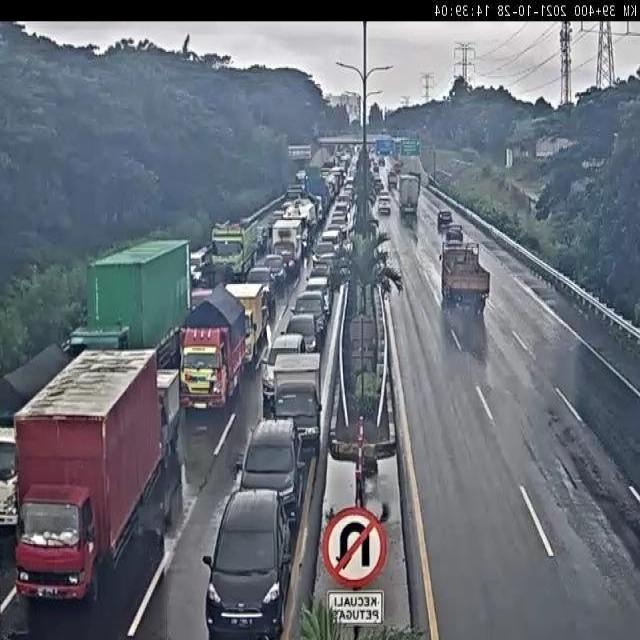Car: (203, 488, 294, 637), (235, 417, 305, 520), (259, 332, 306, 404), (285, 312, 321, 360), (294, 292, 327, 337), (304, 274, 333, 318), (246, 264, 278, 300), (305, 261, 336, 292), (264, 254, 290, 289), (310, 238, 338, 268), (319, 230, 343, 256), (318, 250, 341, 275), (330, 214, 348, 236), (326, 223, 344, 244), (437, 207, 453, 230), (445, 223, 463, 243), (335, 192, 353, 210), (331, 202, 349, 220), (271, 208, 287, 228), (377, 194, 392, 215)
Truck: (14, 344, 162, 603), (65, 235, 194, 358), (0, 342, 80, 539), (174, 281, 249, 411), (270, 351, 324, 449), (437, 239, 492, 315), (220, 281, 264, 364), (209, 214, 261, 280), (156, 364, 182, 462), (270, 217, 304, 278), (283, 195, 318, 253), (304, 175, 329, 225), (398, 172, 422, 218), (189, 245, 213, 286), (407, 171, 423, 197), (324, 172, 338, 201), (284, 183, 305, 201), (388, 170, 398, 188), (392, 160, 401, 172)
